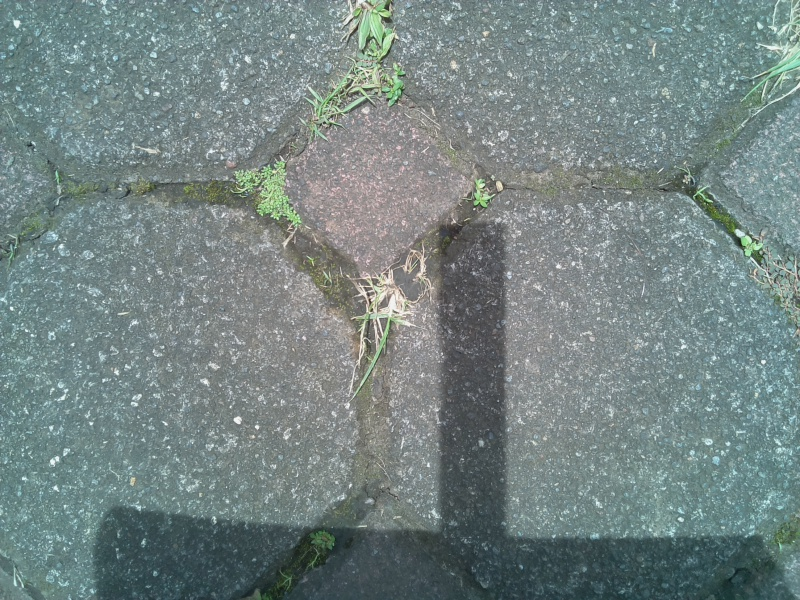Weed: (349, 272, 409, 365), (230, 163, 308, 230), (343, 2, 401, 75), (277, 530, 338, 590), (300, 78, 355, 144), (338, 66, 409, 108), (751, 35, 800, 91), (727, 224, 767, 268), (468, 173, 494, 217)
